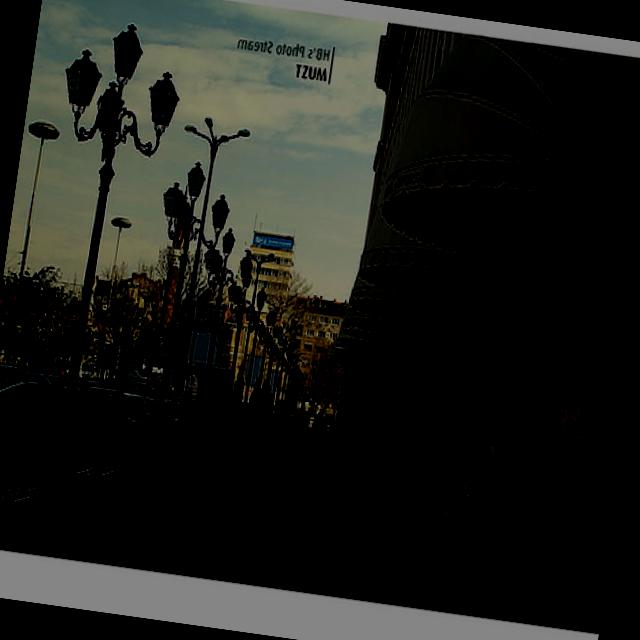Vehicle: (0, 373, 145, 457), (84, 384, 156, 430), (124, 392, 184, 424), (0, 363, 52, 390), (162, 397, 194, 419), (0, 364, 8, 416)
